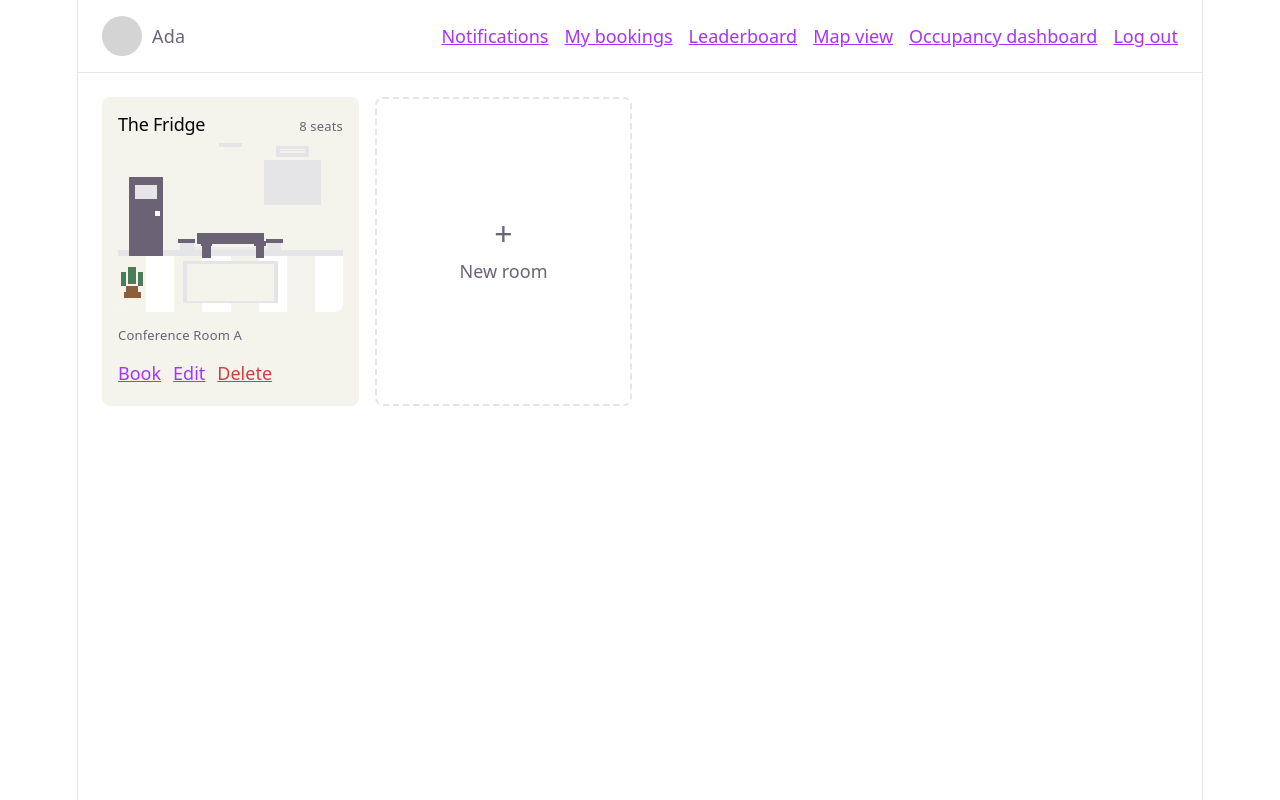
Test: RoomsPage › lets an admin add a room from the "New room" tile alongside existing rooms
Expected: the heading "The Fridge" is shown, x1=118 y1=114 x2=205 y2=135
Click the button "+ New room": (504, 252) x1=375 y1=97 x2=632 y2=406
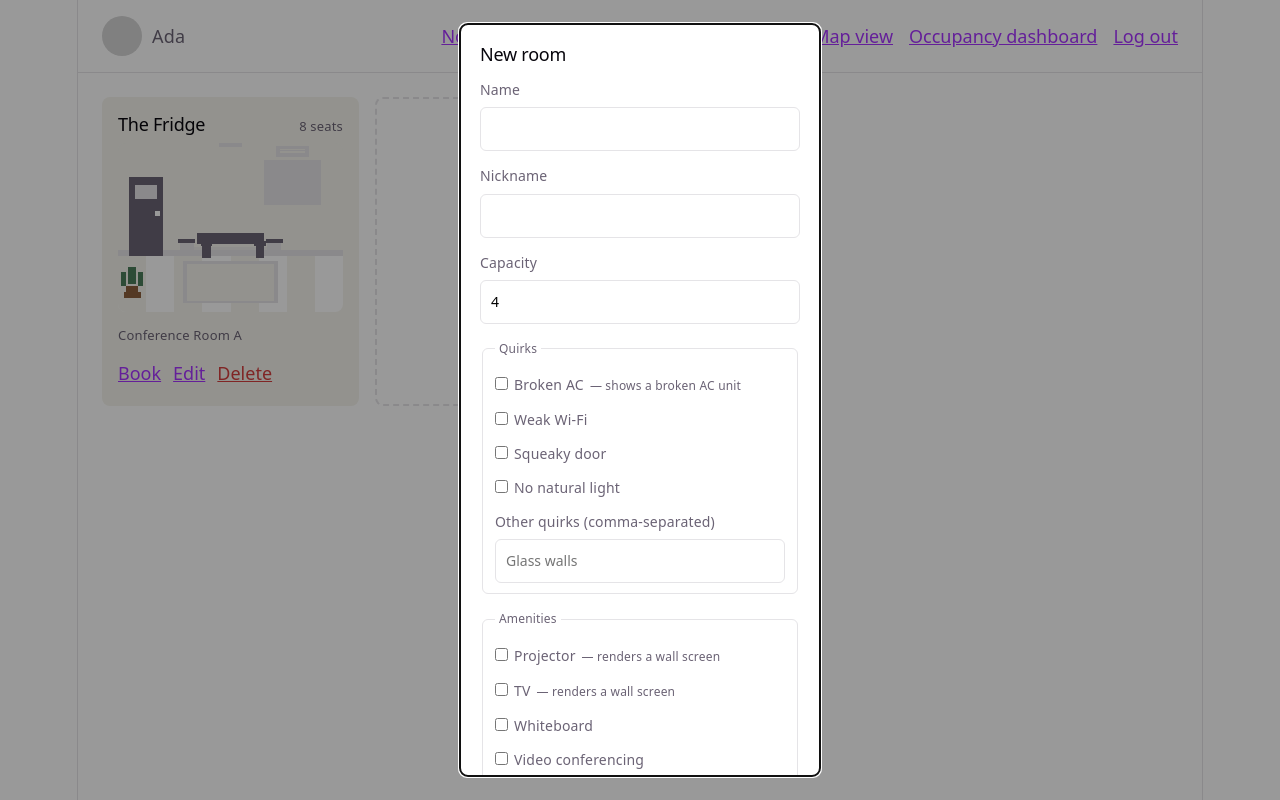
Now the heading "New room" is shown, box x1=480 y1=42 x2=566 y2=66
